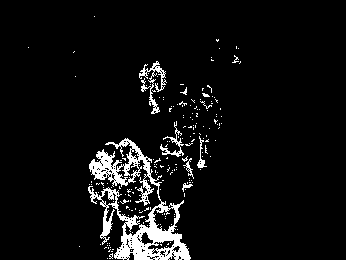person: (153, 135, 200, 226), (81, 133, 117, 238), (200, 80, 236, 174), (118, 137, 150, 230), (175, 81, 199, 157), (152, 59, 168, 126), (137, 58, 150, 120)
